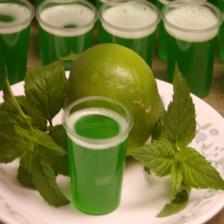green: (131, 63, 224, 217), (69, 43, 161, 155), (0, 61, 69, 207), (161, 1, 223, 98), (68, 137, 127, 215), (98, 0, 161, 68), (36, 0, 98, 65), (0, 0, 35, 90)
